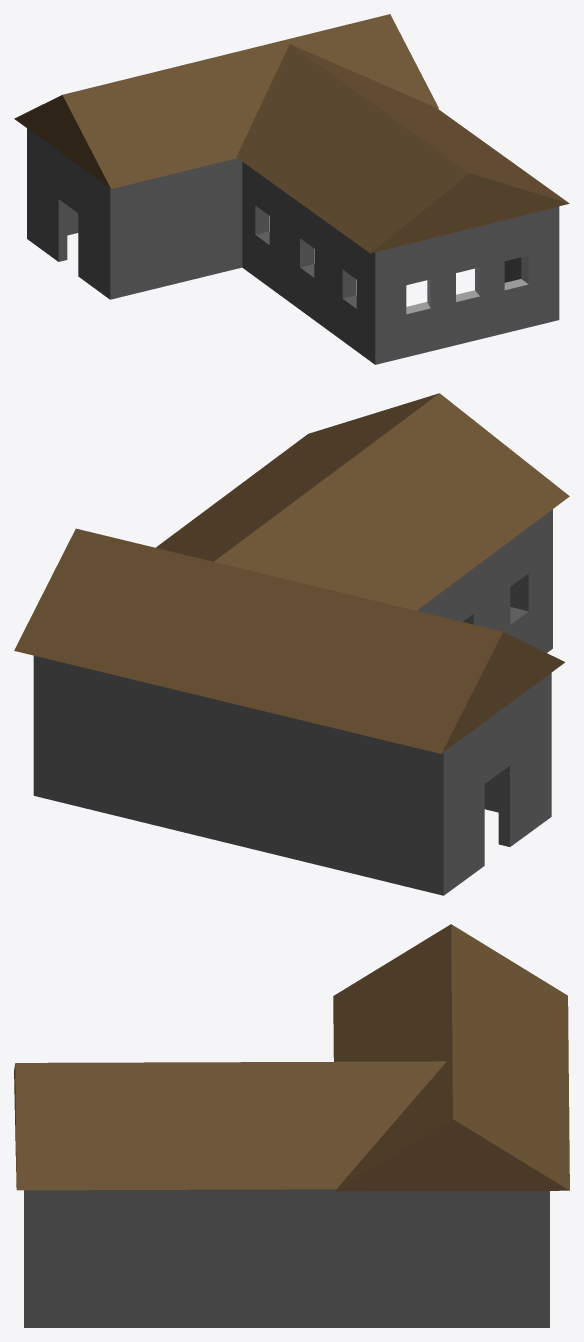
The model's file is House.fbx.
3 views of the same model, one above another, from view 1: azimuth 30°, elevation 25°; view 2: azimuth 150°, elevation 25°; view 3: azimuth 270°, elevation 25° (orthographic). The views are drawn at different scales.
Visible parts, largest first — view 1: House1; view 2: House1; view 3: House1.
Part boxes in pixels (x1=…): House1: x1=14, y1=14, x2=569, y2=364; House1: x1=14, y1=393, x2=569, y2=895; House1: x1=14, y1=924, x2=569, y2=1327.
Size of the model in its own units: 11.85 by 6.02 by 14.25.
